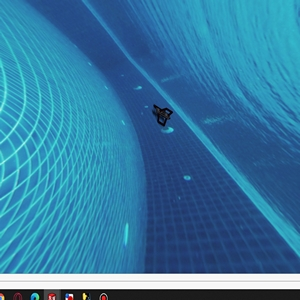submarine: (152, 104, 171, 128)
